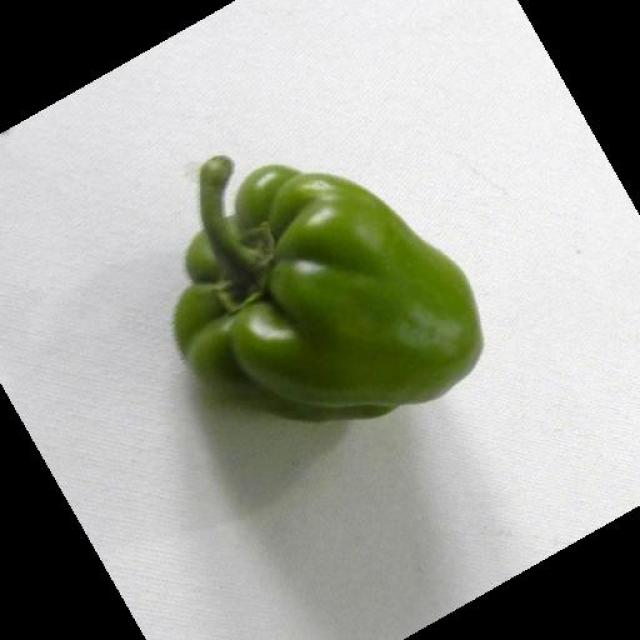Fresh_Capsicum: (168, 145, 504, 414)
